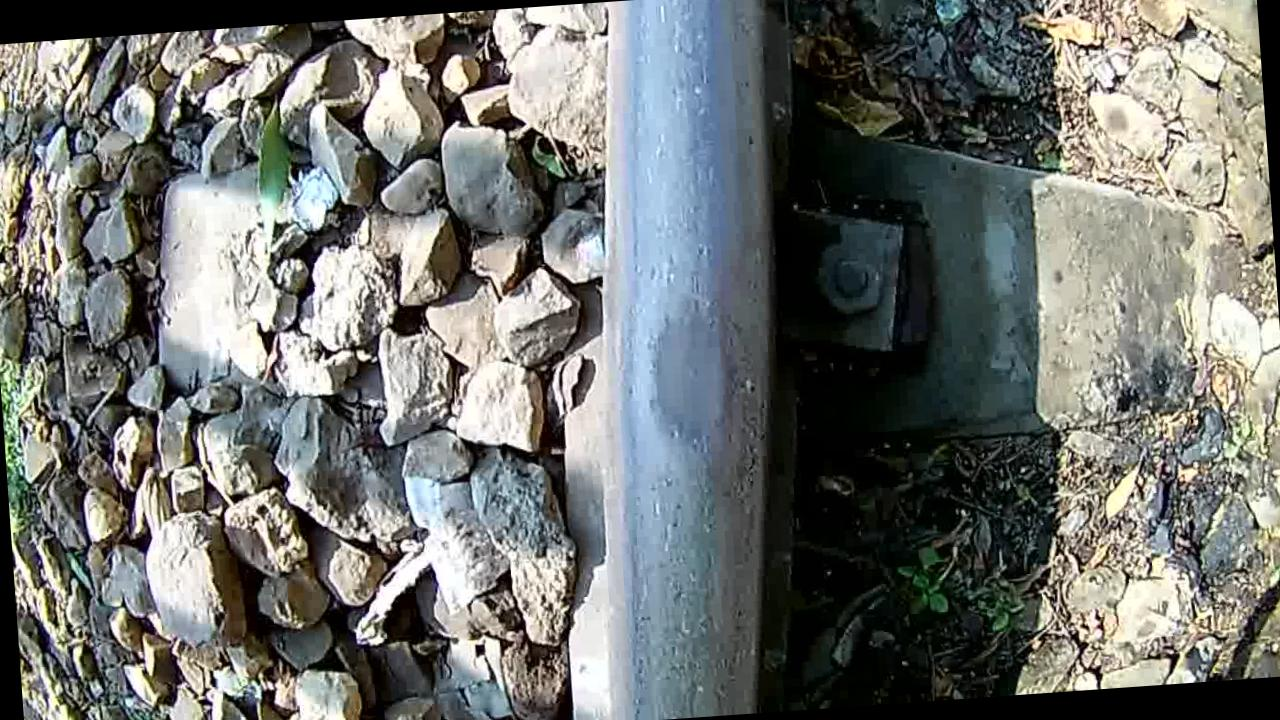bolt_missing: (610, 217, 778, 520)
